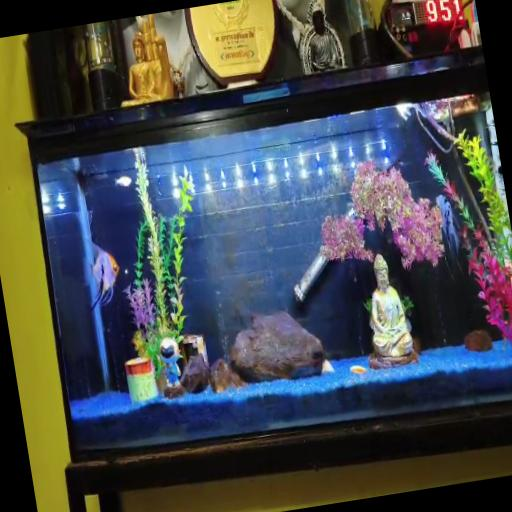Fish: (85, 242, 119, 310), (436, 195, 460, 261)
